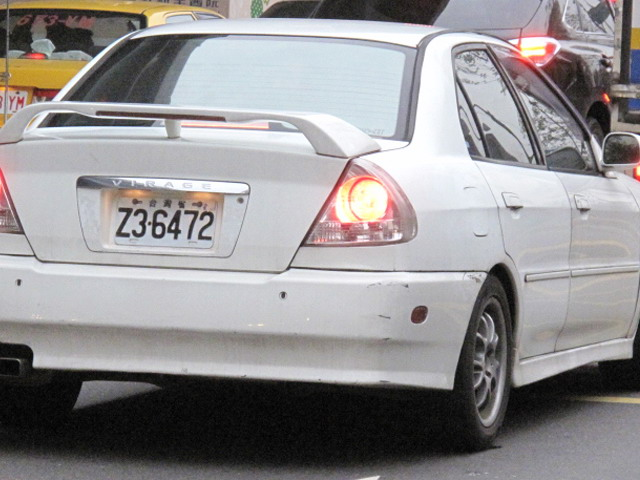plate: (116, 193, 217, 253)
